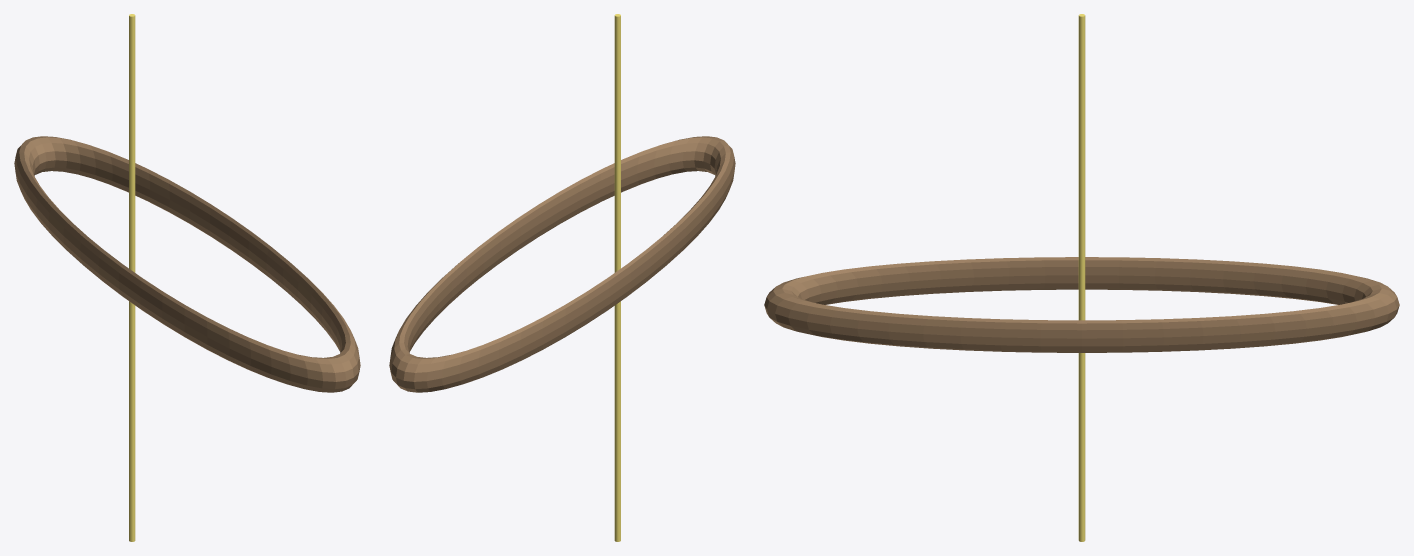
File: bow_weapon.glb
The picture shows the model from 3 angles, left to right: view 1: azimuth 30°, elevation 25°; view 2: azimuth 150°, elevation 25°; view 3: azimuth 270°, elevation 25°; orthographic projection.
Parts seen in each view (by area): view 1: Torus, Cylinder; view 2: Torus, Cylinder; view 3: Torus, Cylinder.
Part boxes in pixels (bbox=[...]): Torus: bbox=[14, 136, 360, 392]; Cylinder: bbox=[129, 14, 135, 541]; Torus: bbox=[389, 136, 735, 392]; Cylinder: bbox=[614, 14, 620, 541]; Torus: bbox=[764, 257, 1399, 352]; Cylinder: bbox=[1078, 14, 1085, 541].
Size of the model in its own units: 0.3975 by 1.45 by 1.59.
